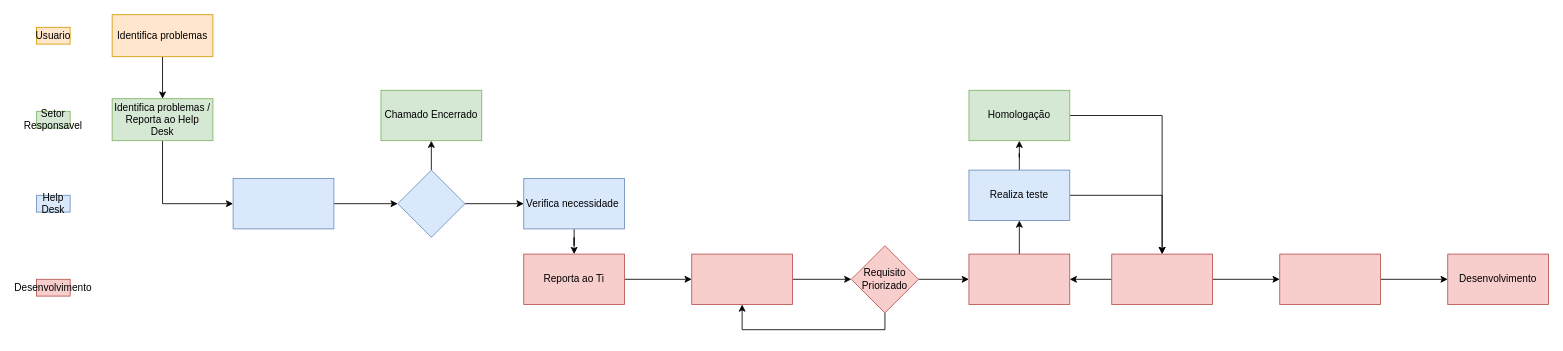
Image size: 1563x351. Some labels were removed from this diagram. Each missing label, with the box of its shape:
Analisa problemas: (232, 178, 334, 229)
Enviado a programador: (968, 253, 1070, 304)
Faz correção e melhorias: (1111, 253, 1213, 304)
Geração de pacote: (1279, 253, 1381, 304)
Prioriza demanda: (691, 253, 793, 304)
Resolvido: (397, 169, 465, 237)
